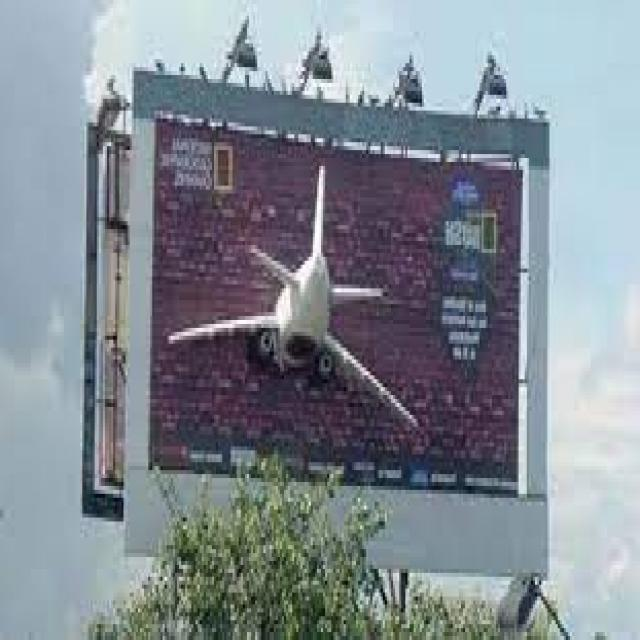Werbetafel frei: (138, 90, 550, 546)
